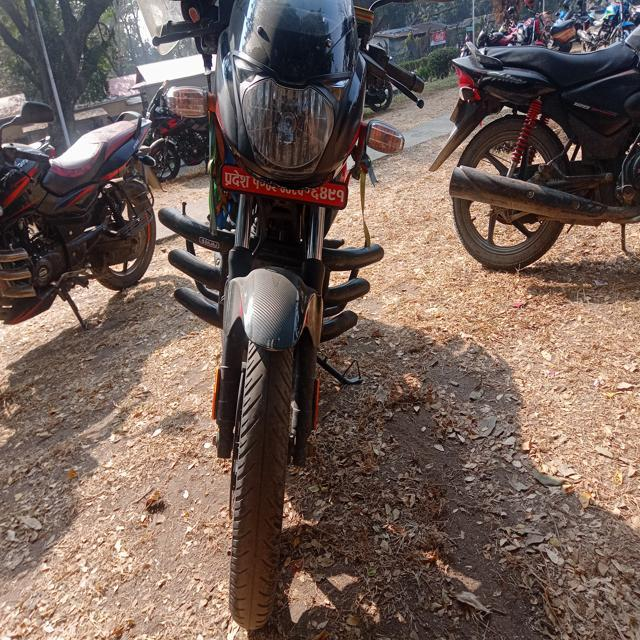license_plate: (160, 9, 426, 255)
